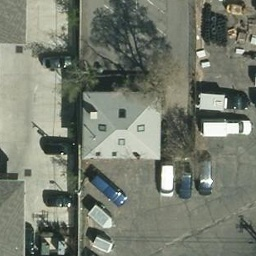car: (90, 174, 130, 205), (43, 50, 73, 72), (42, 137, 76, 156), (43, 191, 74, 209), (198, 158, 212, 196), (158, 164, 174, 194), (178, 163, 191, 199)
